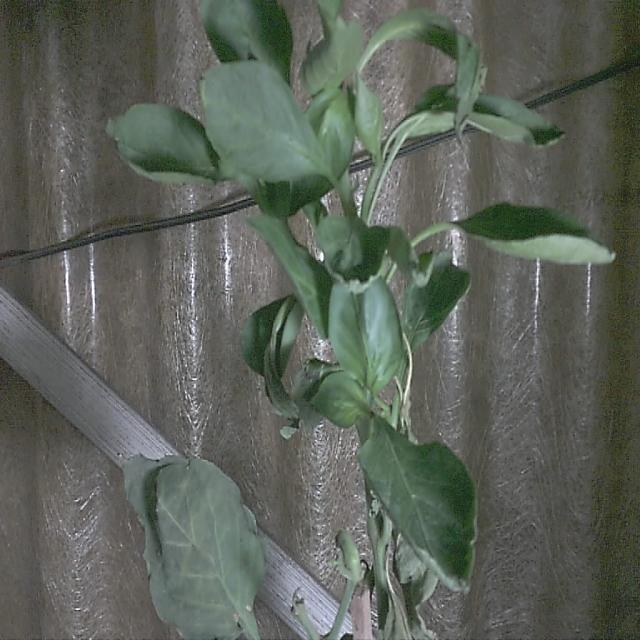Leaf: (124, 456, 265, 639), (359, 419, 476, 590), (201, 61, 332, 182), (250, 215, 331, 337), (455, 203, 614, 264), (107, 104, 219, 183), (329, 278, 404, 394), (200, 0, 292, 81), (404, 252, 469, 351)
